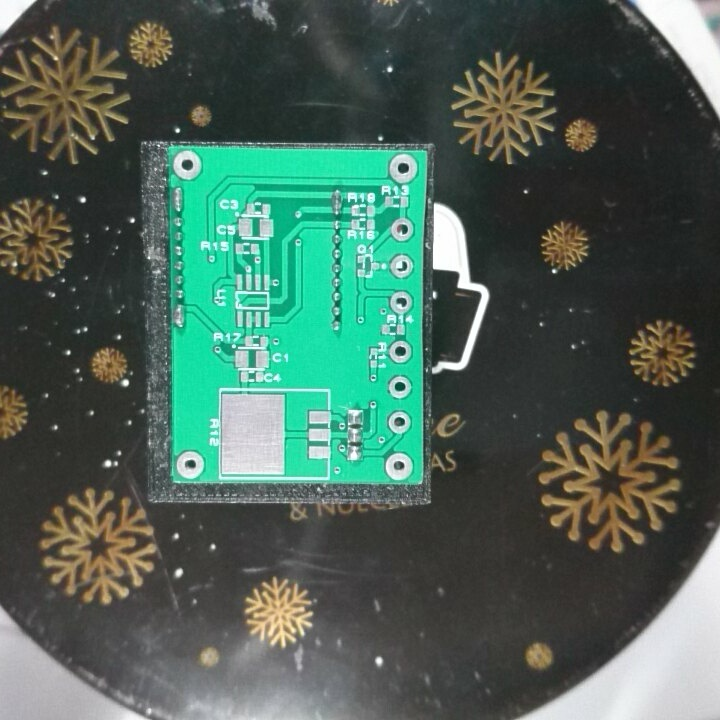F: (174, 447, 208, 481), (386, 150, 419, 184), (170, 147, 205, 179), (380, 449, 416, 480), (387, 251, 416, 281), (387, 288, 416, 317), (389, 215, 417, 243), (385, 338, 414, 365), (385, 373, 414, 400), (386, 408, 413, 435)
P: (169, 183, 187, 216), (329, 184, 345, 216), (171, 301, 188, 330)
